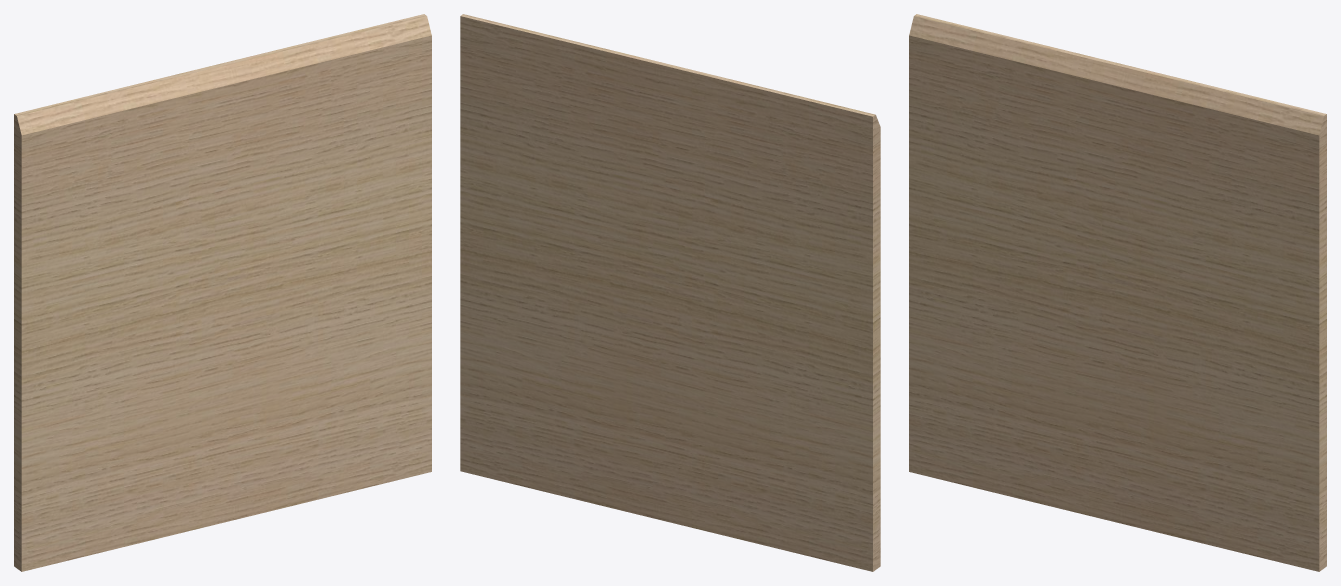
File: dor_S8_dor_140.glb
3 views of the same model, side by side, from view 1: azimuth 30°, elevation 25°; view 2: azimuth 150°, elevation 25°; view 3: azimuth 330°, elevation 25° (orthographic).
Size of the model in its own units: 594 by 626 by 19.
Materials: 1 (1 with a texture image).
